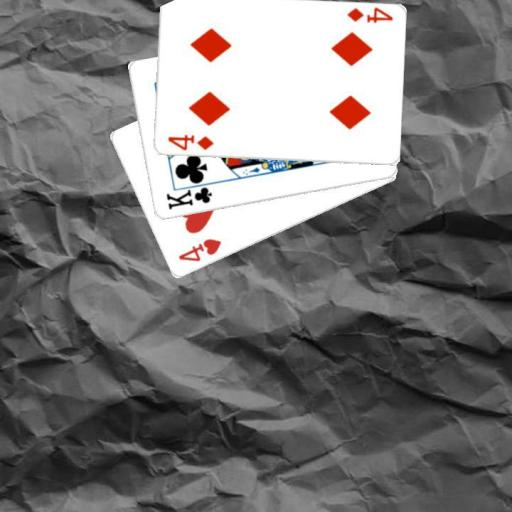4D: (164, 132, 215, 152), (343, 5, 394, 25)
4H: (175, 235, 223, 264)
KC: (163, 179, 216, 211)
